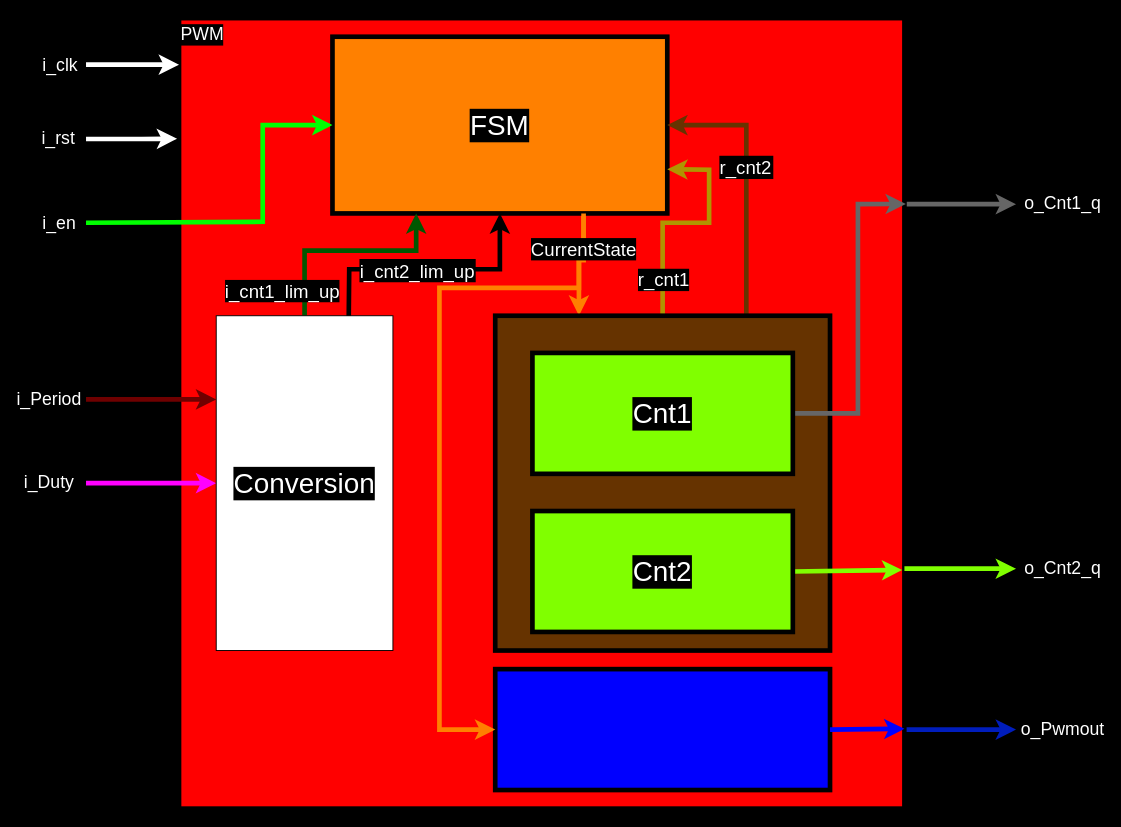
Some shapes in this 1121 by 827 pixel diagram are drawn without their labels. The box of each missing label's shape, as (x1, y1, x2, y2) in pixels:
Counter: (492, 313, 832, 652)
Output: (492, 666, 832, 792)
